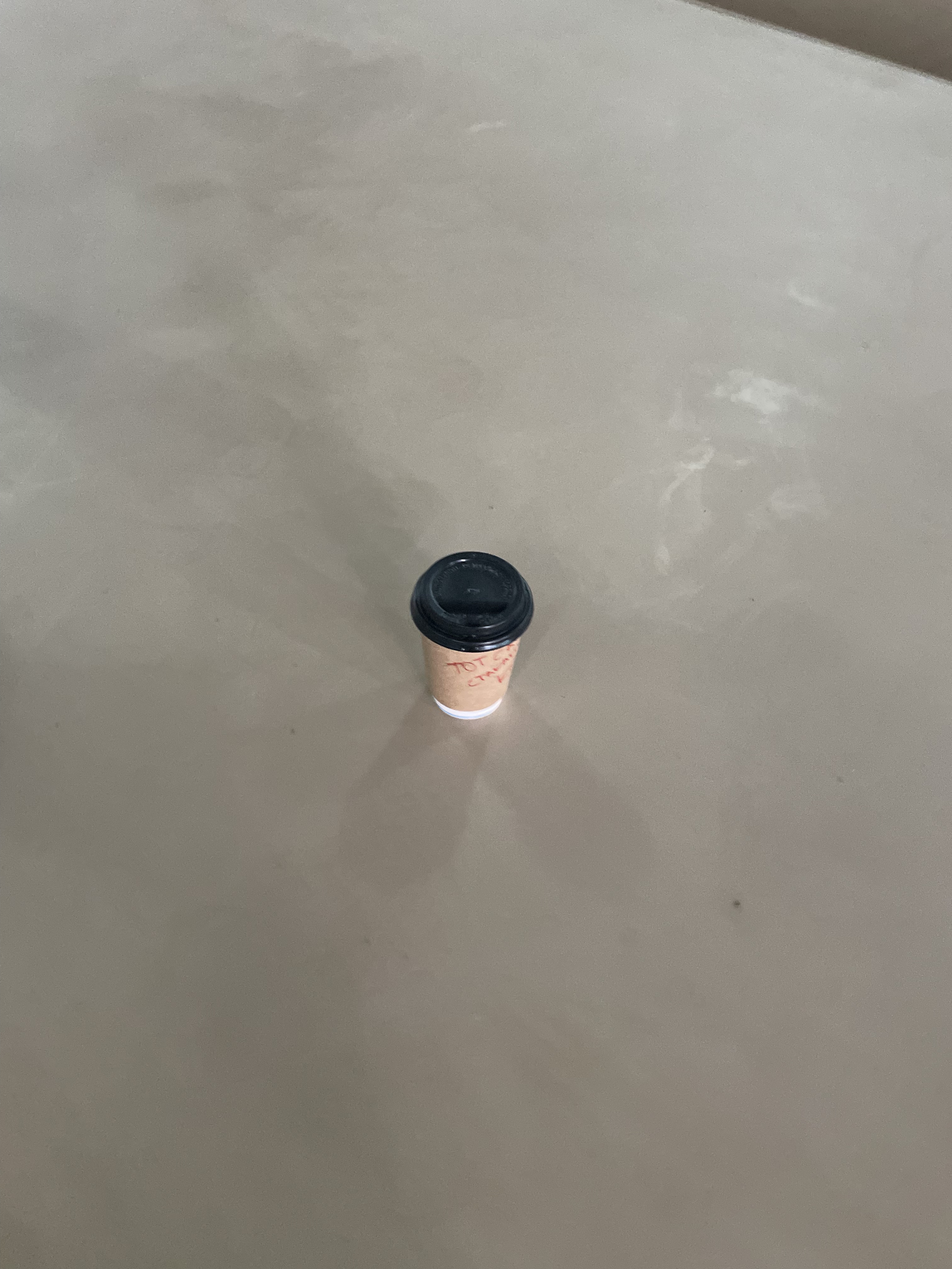cup: (410, 551, 534, 721)
